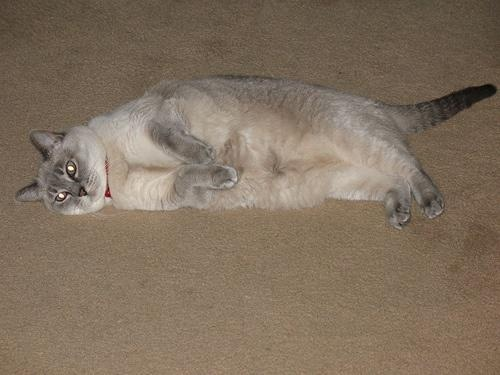cat: (15, 63, 499, 232)
